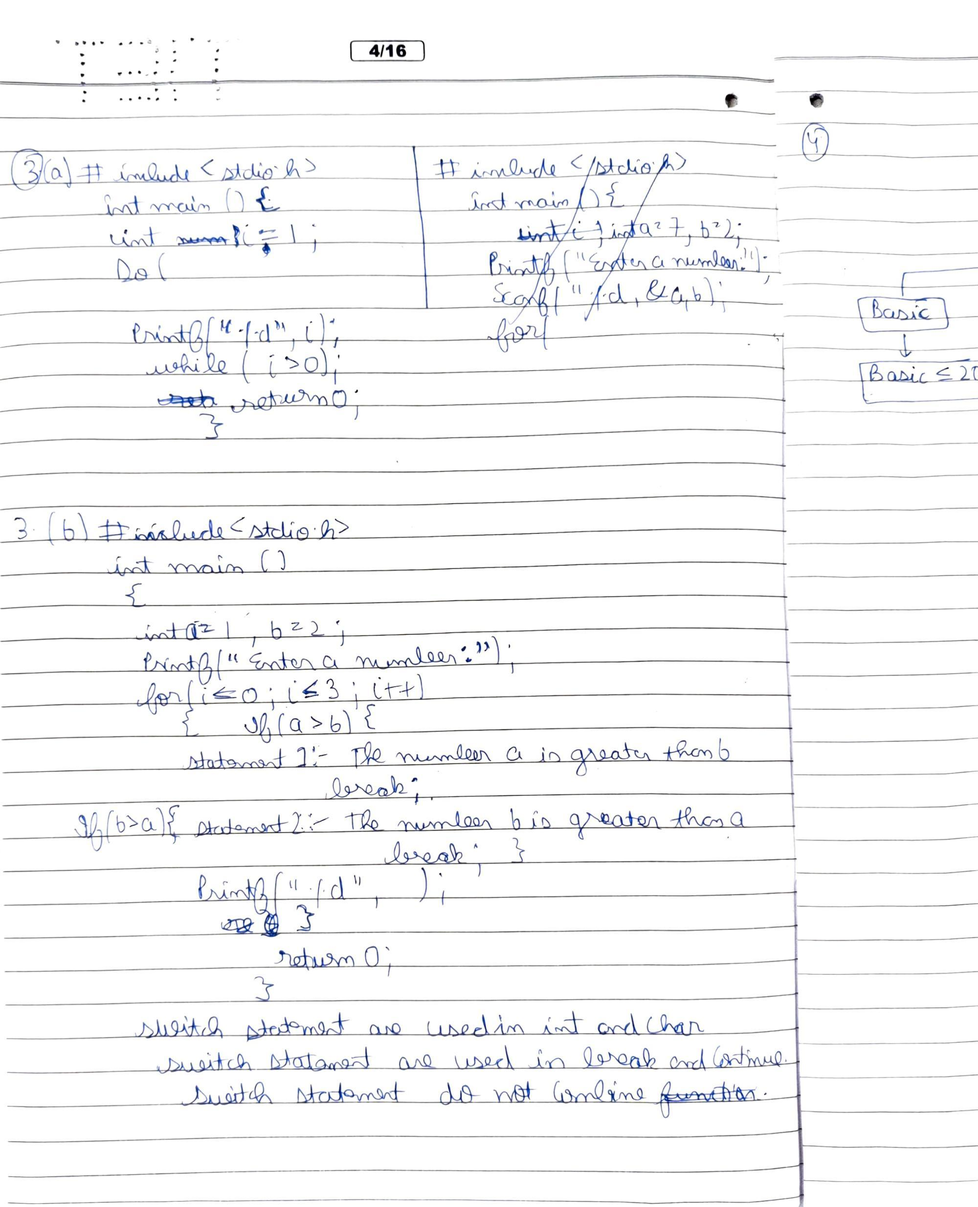cuttings: (432, 150, 771, 357), (660, 1080, 756, 1119), (158, 389, 217, 409), (175, 235, 228, 246), (220, 917, 254, 934), (260, 912, 281, 937), (232, 224, 241, 247), (262, 242, 270, 254)
